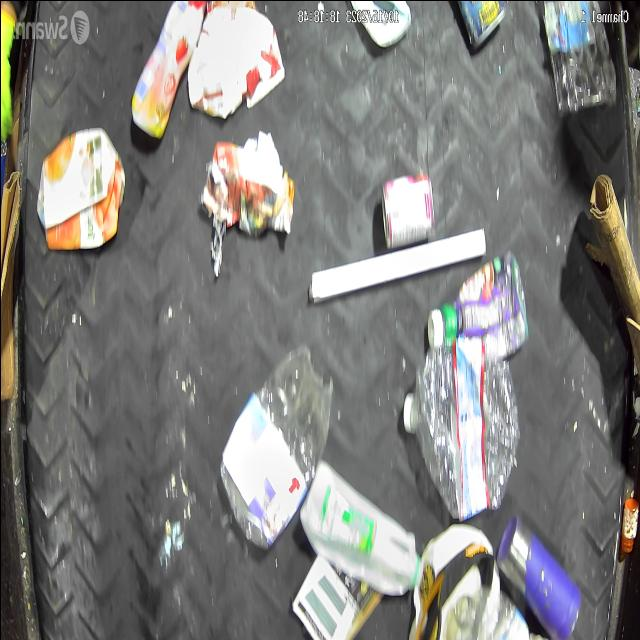can: (494, 512, 580, 640), (379, 168, 435, 246), (458, 0, 506, 48)
milk_jug: (298, 461, 422, 598)
non_white_jug: (35, 124, 125, 253)
plastic_bottle: (219, 340, 332, 553), (402, 342, 520, 522)
